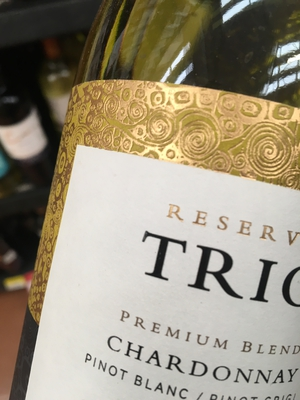trio chardonnay: (10, 21, 300, 397)
